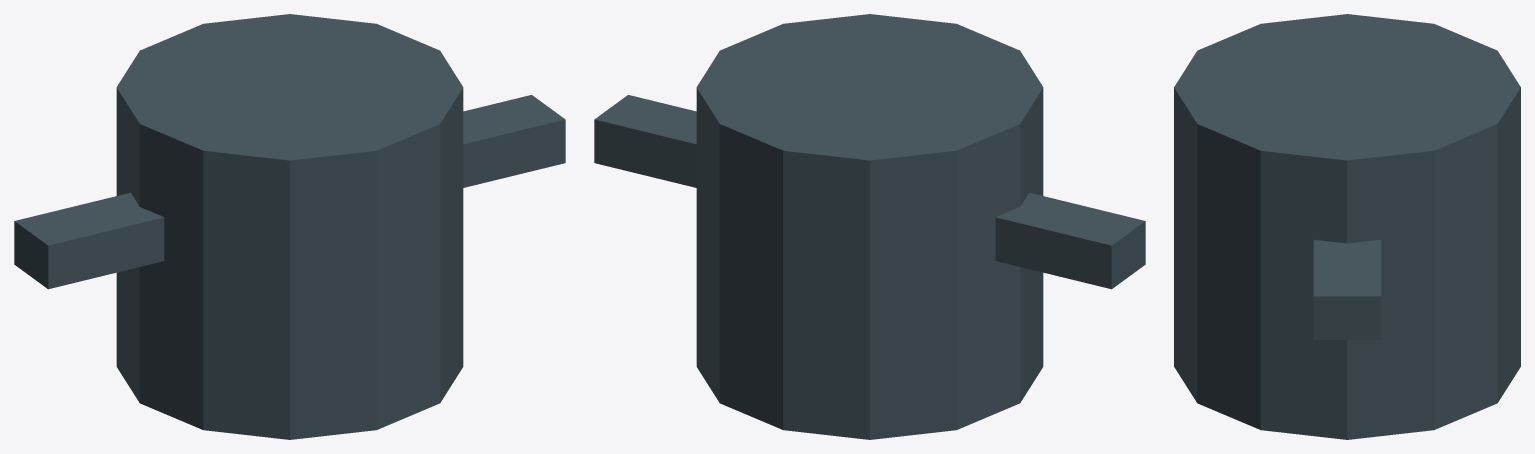
File: set_colander.glb
The picture shows the model from 3 angles, left to right: view 1: azimuth 30°, elevation 25°; view 2: azimuth 150°, elevation 25°; view 3: azimuth 270°, elevation 25°; orthographic projection.
Parts seen in each view (by area): view 1: set_colander; view 2: set_colander; view 3: set_colander.
Part boxes in pixels (<box>): set_colander: <box>14,14,565,439</box>; set_colander: <box>594,14,1145,439</box>; set_colander: <box>1174,14,1520,439</box>.
Size of the model in its own units: 0.31 by 0.16 by 0.18.
